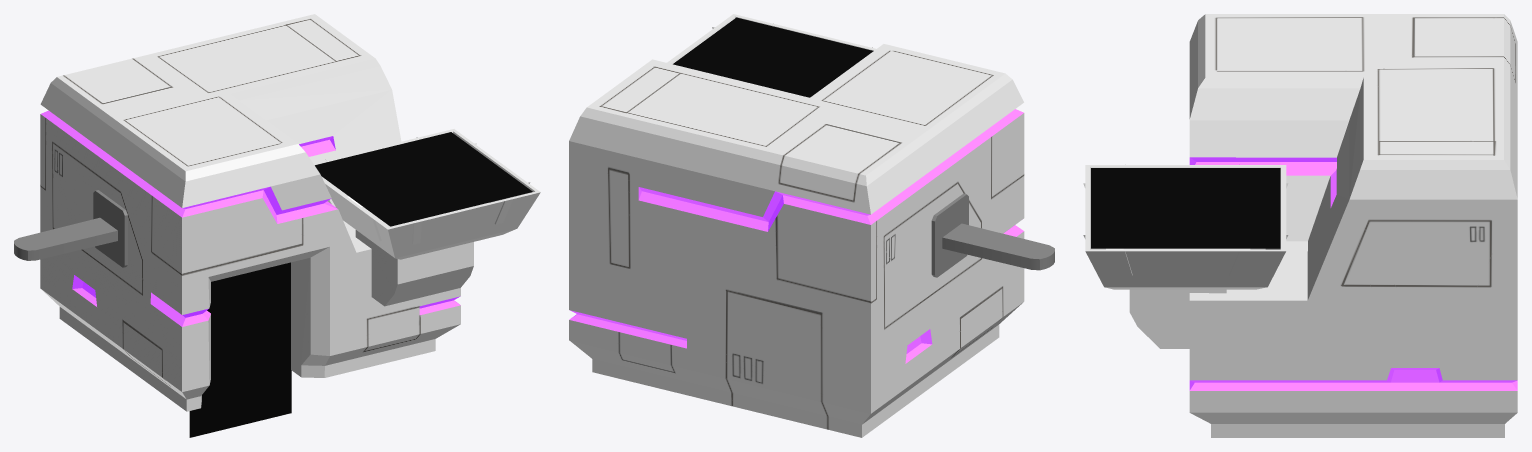
The model's file is mach-body.glb.
3 views of the same model, side by side, from view 1: azimuth 30°, elevation 25°; view 2: azimuth 150°, elevation 25°; view 3: azimuth 270°, elevation 25° (orthographic). The views are drawn at different scales.
Parts seen in each view (by area): view 1: machinebody, pPlane2, basket, pPlane1, monitorarm01; view 2: machinebody, pPlane1, monitorarm01, basket; view 3: machinebody, pPlane1, basket.
Part boxes in pixels (x1=…): machinebody: x1=40, y1=14, x2=460, y2=411; pPlane2: x1=189, y1=262, x2=291, y2=437; basket: x1=313, y1=129, x2=540, y2=306; pPlane1: x1=315, y1=132, x2=532, y2=226; monitorarm01: x1=14, y1=190, x2=127, y2=267; machinebody: x1=569, y1=44, x2=1024, y2=437; pPlane1: x1=673, y1=17, x2=873, y2=97; monitorarm01: x1=931, y1=193, x2=1054, y2=277; basket: x1=667, y1=14, x2=875, y2=64; machinebody: x1=1189, y1=14, x2=1517, y2=437; pPlane1: x1=1091, y1=168, x2=1280, y2=248; basket: x1=1083, y1=164, x2=1288, y2=348.
Bounding box in the file's own units: 1.21 × 0.8047 × 0.9556.
Materials: 5 (2 with a texture image).
